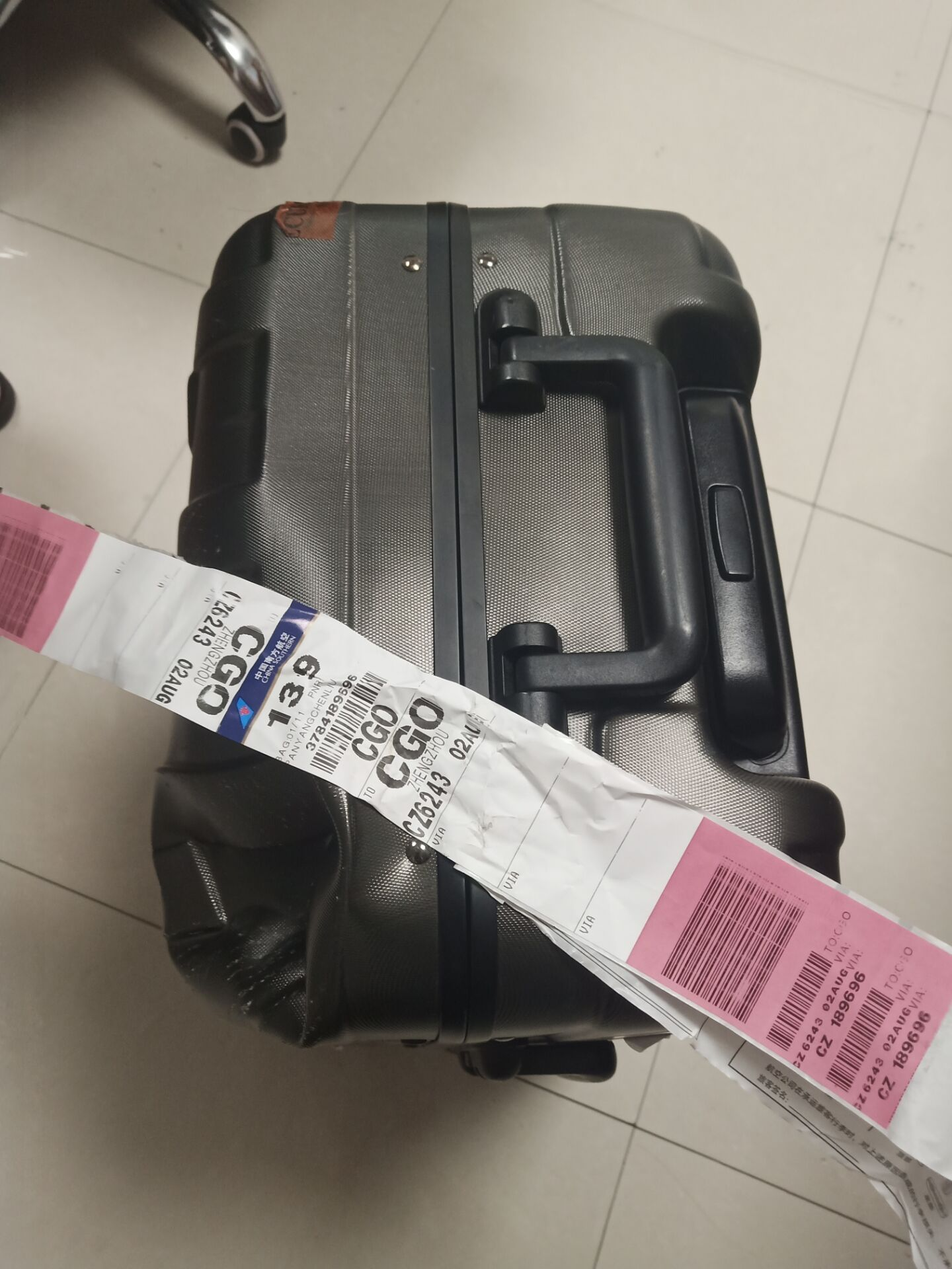rupture: (151, 779, 345, 1048)
